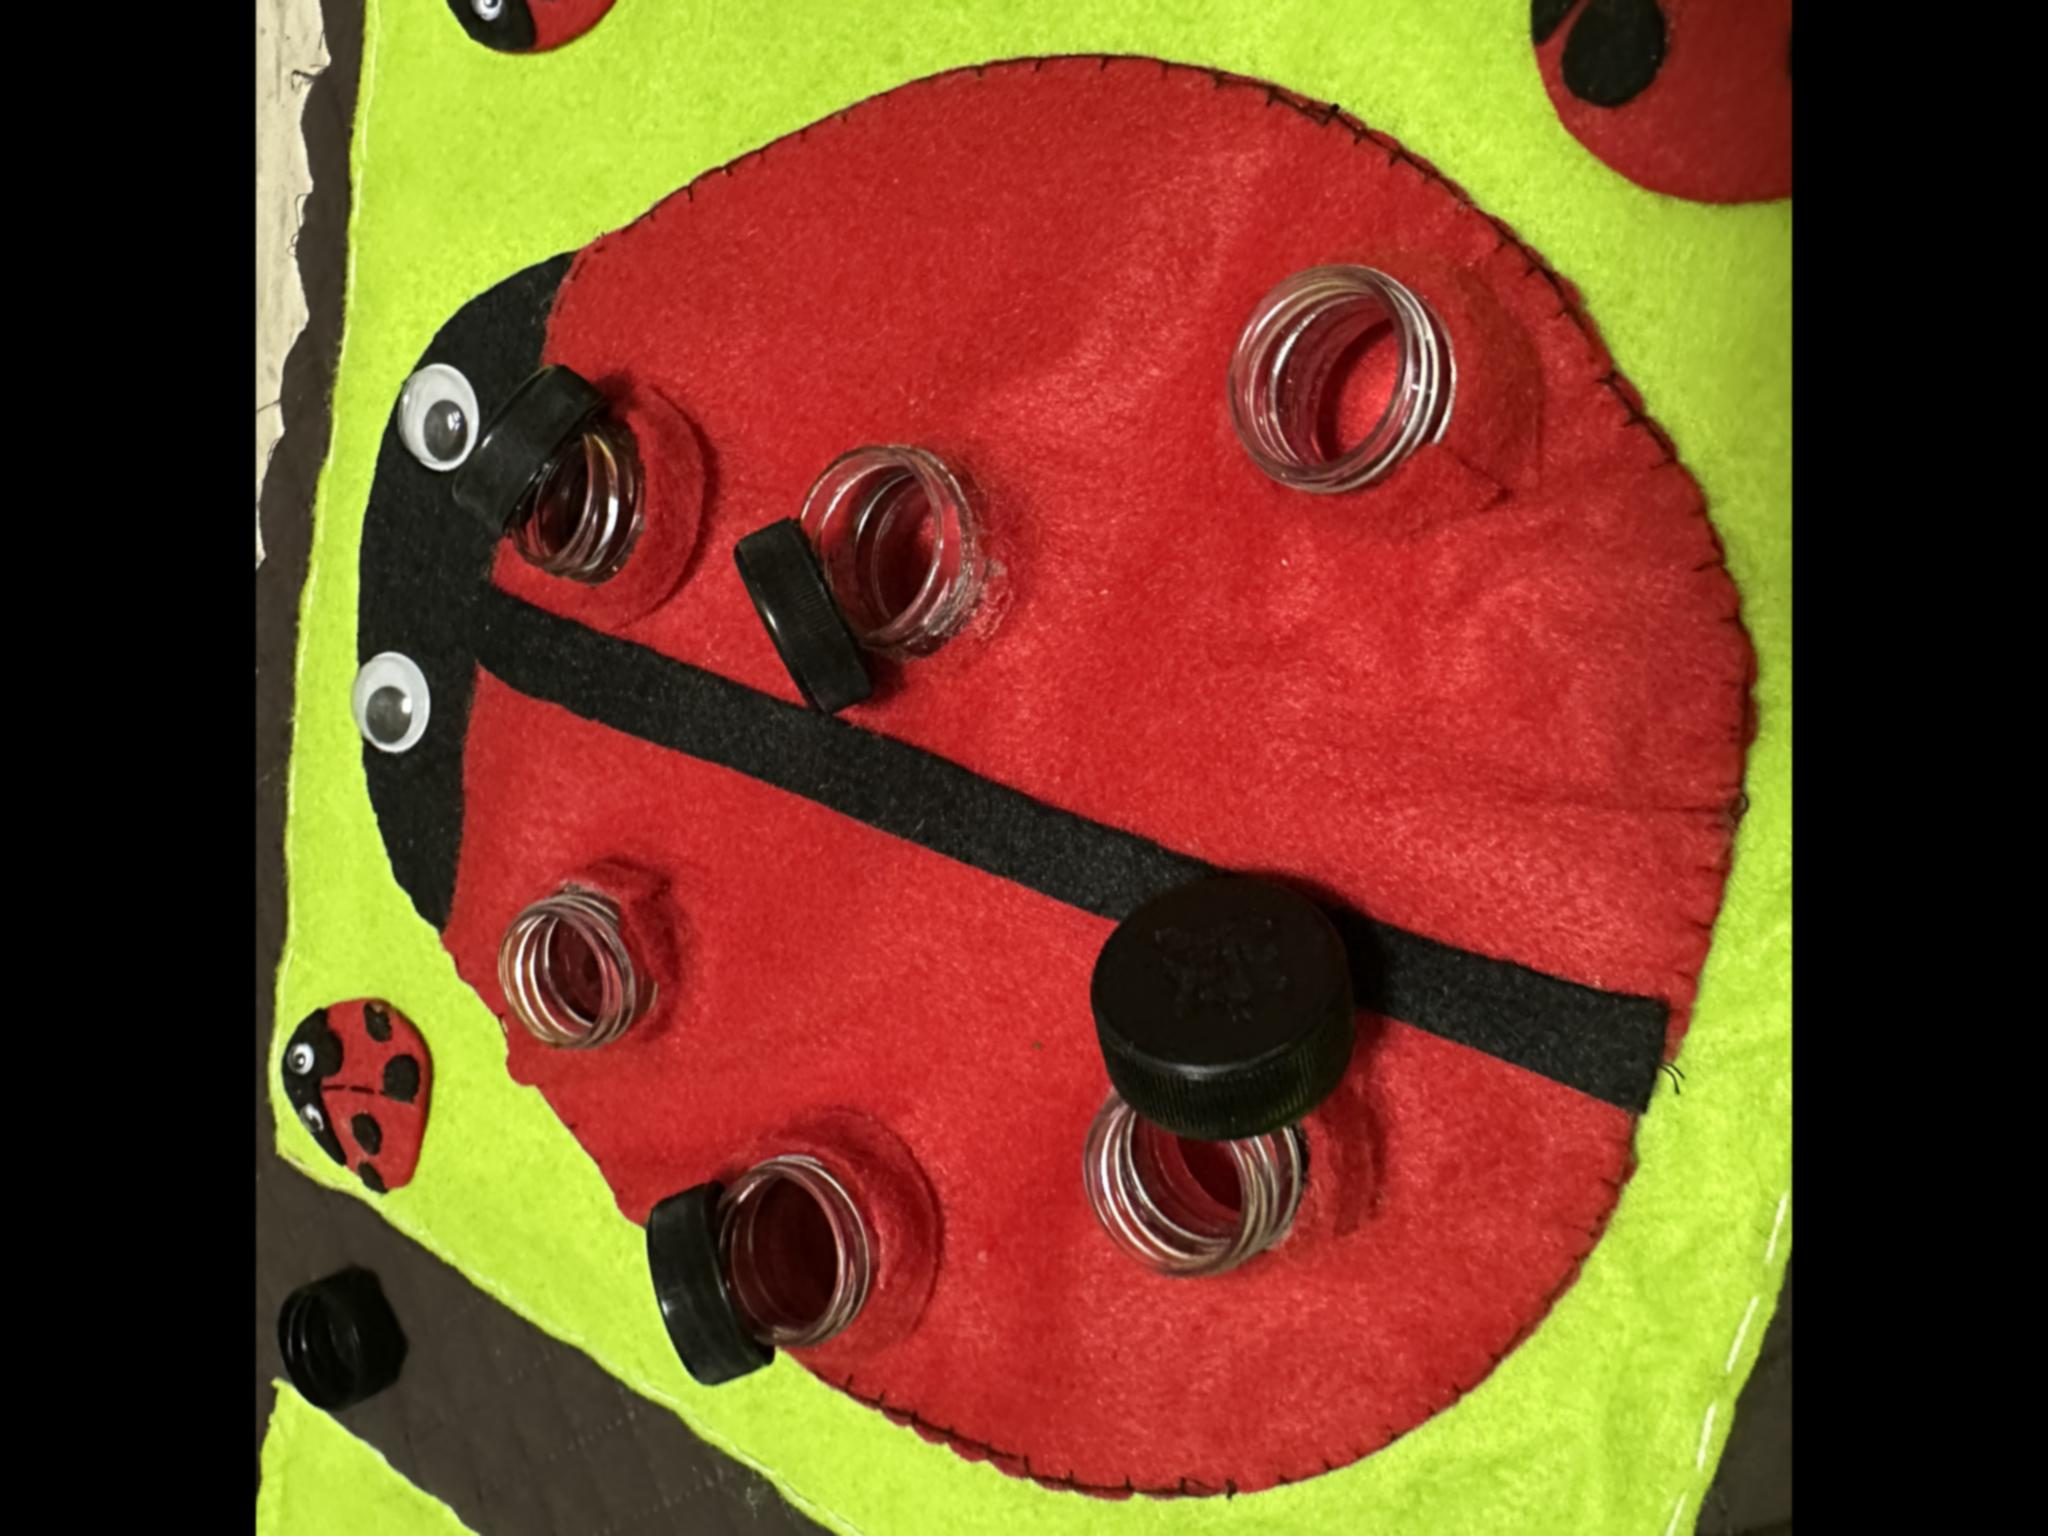cap_ng: (1080, 845, 1388, 1286), (727, 410, 1071, 737), (635, 1115, 951, 1394), (447, 352, 713, 623)
